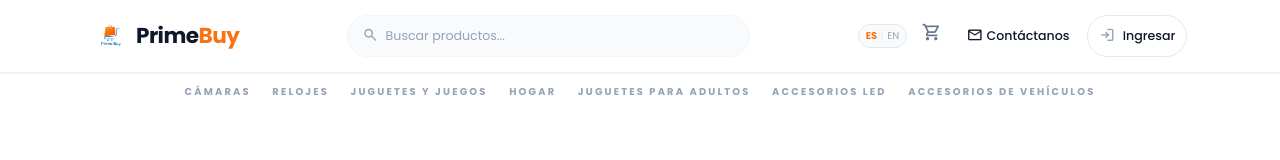
Navbar i18n integration › switches language to English (nav + right actions)
Check: the link "Cámaras" is shown, box x1=185 y1=85 x2=251 y2=100
Click the button "EN" at coordinates (893, 36), box x1=887 y1=29 x2=899 y2=44
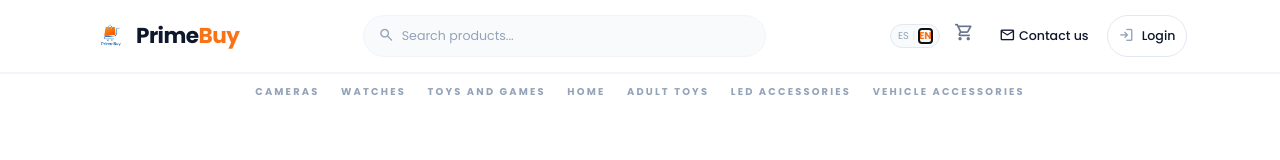
Check: the link "Login" is shown, box x1=1106 y1=15 x2=1187 y2=57
Check: the field with placeholder "Search products..." is shown, box x1=402 y1=27 x2=751 y2=45
